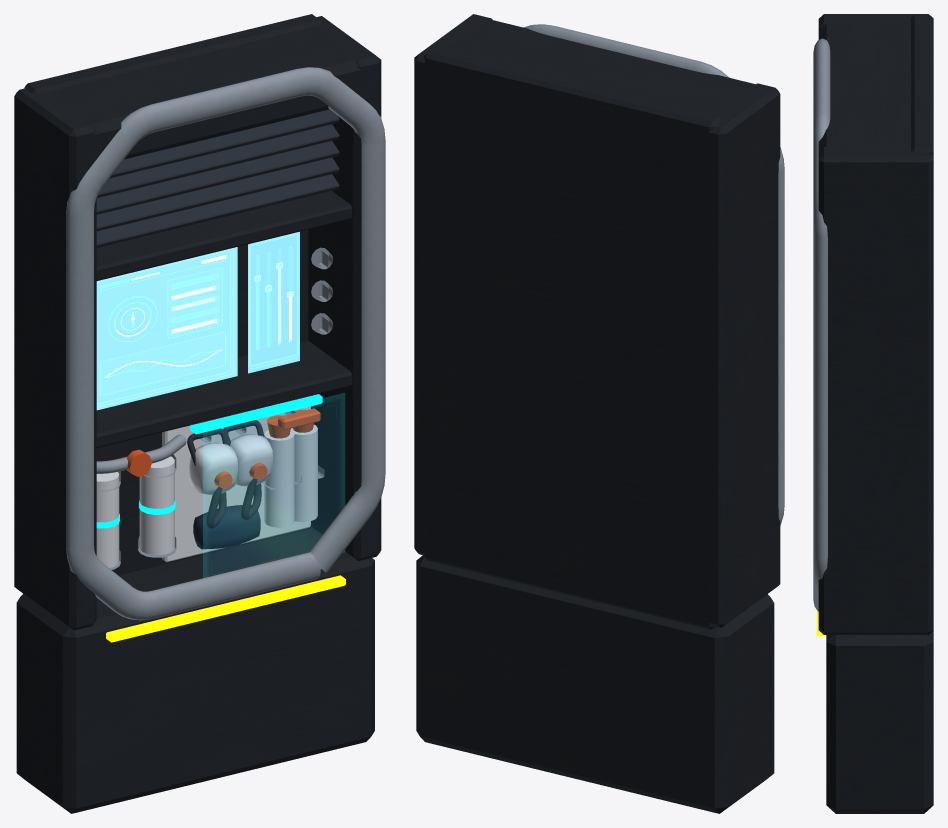
File: climate_r1_01.glb
The picture shows the model from 3 angles, left to right: view 1: azimuth 30°, elevation 25°; view 2: azimuth 150°, elevation 25°; view 3: azimuth 270°, elevation 25°; orthographic projection. The views are drawn at different scales.
Visible parts, largest first — view 1: Climate01_OctagonalGunmetalHull, Climate01_MachinedVerniersAndManifold, Climate01_CarbonSlateLaminarLouvers, Climate01_WidescreenOLEDTelemetry, Climate01_WhiteMasksTanksAndScrubbers, Climate01_TranslucentO2BayDoor, Climate01_CircadianSlidersOLED, Climate01_PlinthAmberStatusLED, Climate01_SignalOrangeValvesAndPullHandle, Climate01_NavyThermalHoodPouch, Climate01_CharcoalMaskStrapsAndHoses, Climate01_CyanStatusRingsAndBayLight; view 2: Climate01_OctagonalGunmetalHull, Climate01_MachinedVerniersAndManifold; view 3: Climate01_OctagonalGunmetalHull, Climate01_MachinedVerniersAndManifold.
Boxes of the visible parts, x1,y1,x2,y2 form: Climate01_OctagonalGunmetalHull: (14,14,381,813); Climate01_MachinedVerniersAndManifold: (66,67,385,620); Climate01_CarbonSlateLaminarLouvers: (96,109,339,247); Climate01_WidescreenOLEDTelemetry: (96,247,237,410); Climate01_WhiteMasksTanksAndScrubbers: (96,406,317,567); Climate01_TranslucentO2BayDoor: (203,393,344,577); Climate01_CircadianSlidersOLED: (248,231,299,373); Climate01_PlinthAmberStatusLED: (106,575,345,642); Climate01_SignalOrangeValvesAndPullHandle: (127,408,320,488); Climate01_NavyThermalHoodPouch: (193,504,260,549); Climate01_CharcoalMaskStrapsAndHoses: (187,420,264,528); Climate01_CyanStatusRingsAndBayLight: (96,394,322,528); Climate01_OctagonalGunmetalHull: (414,14,780,813); Climate01_MachinedVerniersAndManifold: (524,24,784,525); Climate01_OctagonalGunmetalHull: (818,14,933,813); Climate01_MachinedVerniersAndManifold: (813,38,830,611).
Bounding box in the file's own units: 0.9168 × 1.92 × 0.314.
13 materials, 13 textured.
